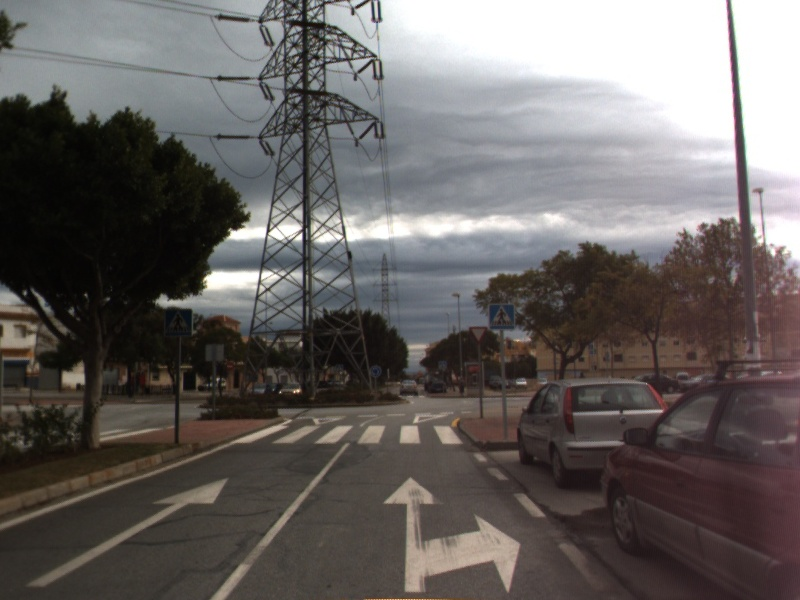STRAIGHT: (22, 475, 232, 589)
STRAIGHT_RIGHT: (380, 474, 523, 595)
